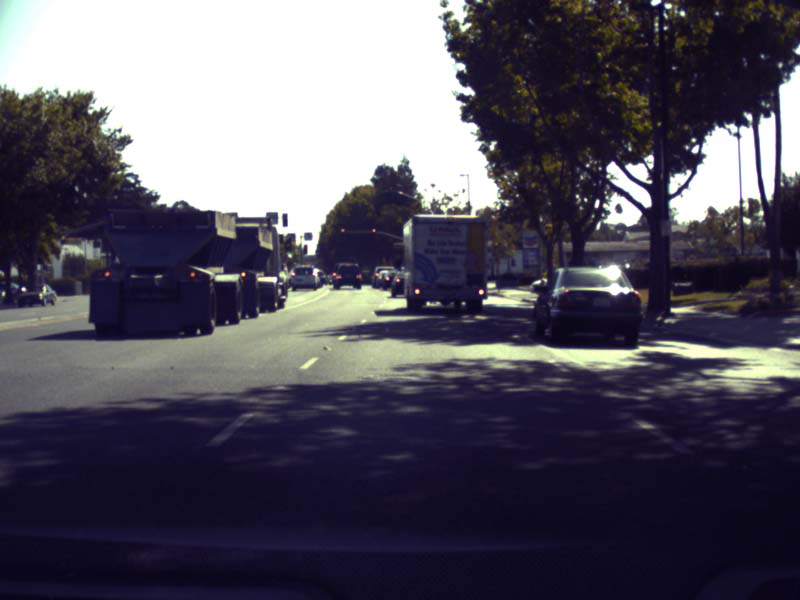Yellow: (370, 226, 377, 233), (339, 227, 345, 233)
